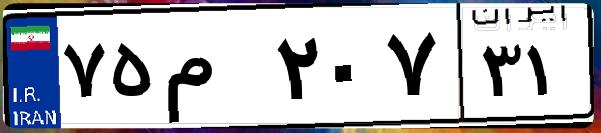0: (330, 28, 385, 110)
1: (525, 38, 570, 115)
2: (270, 28, 330, 110)
3: (475, 38, 525, 113)
5: (110, 28, 158, 98)
7: (385, 28, 445, 110), (57, 26, 110, 100)
م: (158, 20, 270, 120)
